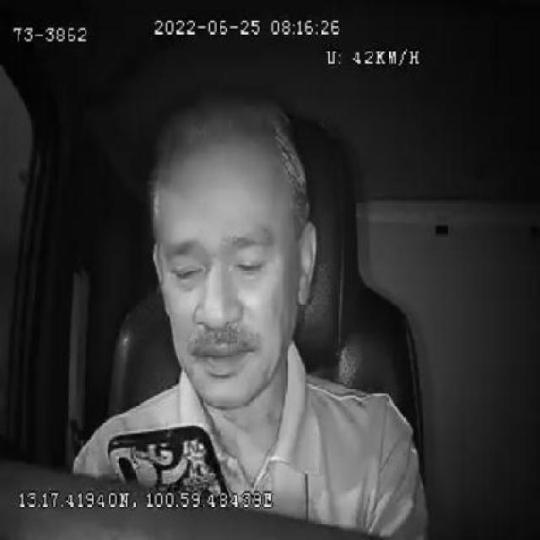phone: (107, 423, 230, 492)
